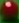brown: (0, 0, 19, 23)
